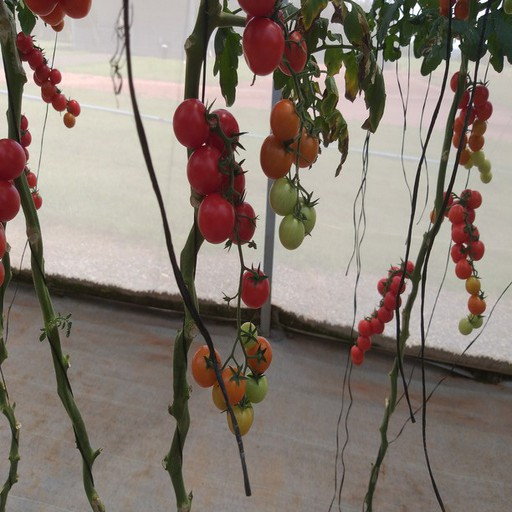mixed tomato bunch: (188, 318, 274, 438), (262, 102, 318, 250), (452, 191, 488, 335), (452, 70, 490, 184)
red tomato bunch: (175, 98, 259, 248), (350, 261, 417, 367), (14, 30, 80, 130), (238, 1, 307, 80), (12, 116, 42, 215), (18, 1, 92, 29)
